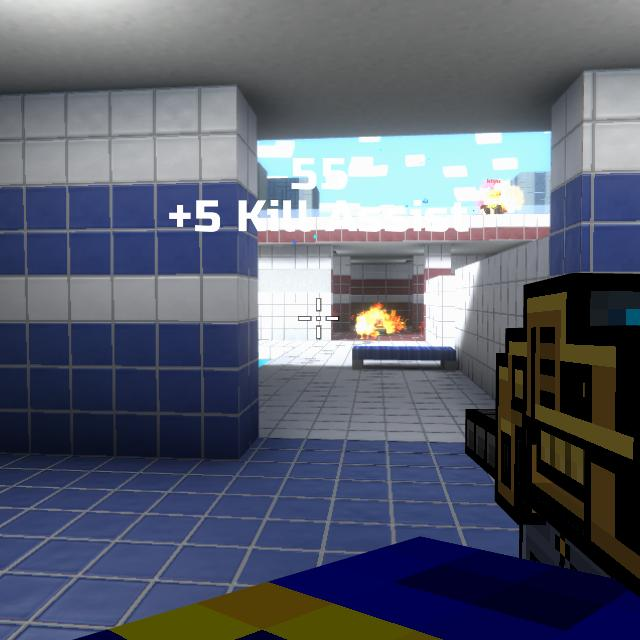Enemy: (480, 191, 508, 214)
